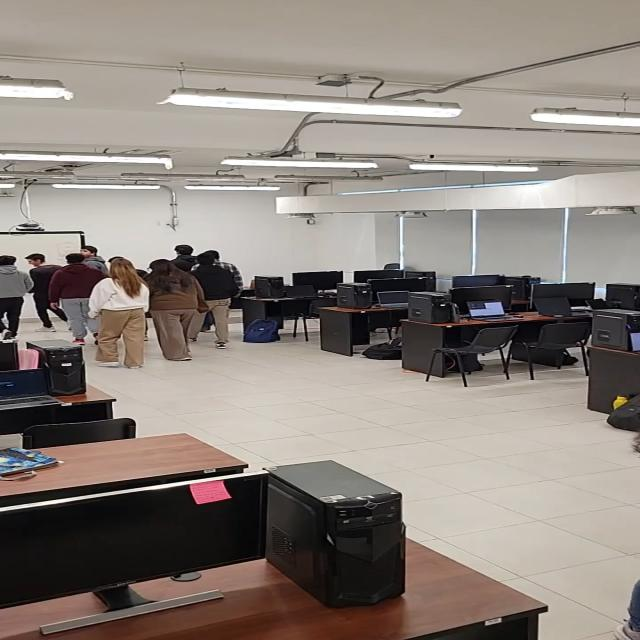Persona: (90, 257, 148, 371), (150, 258, 200, 362), (192, 254, 237, 351), (55, 252, 92, 340), (25, 253, 63, 331), (1, 256, 28, 339)
